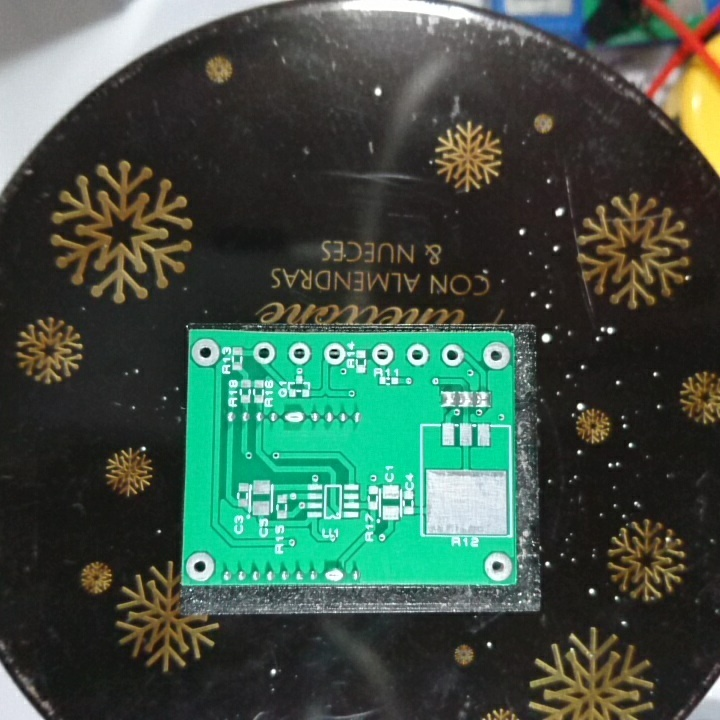F: (190, 336, 222, 369), (481, 551, 513, 583), (184, 549, 215, 582), (480, 341, 511, 371), (437, 341, 464, 369), (404, 342, 430, 371), (287, 341, 312, 367), (252, 340, 276, 367), (321, 342, 346, 367), (371, 342, 393, 367)
P: (281, 409, 306, 428), (321, 566, 345, 585)
